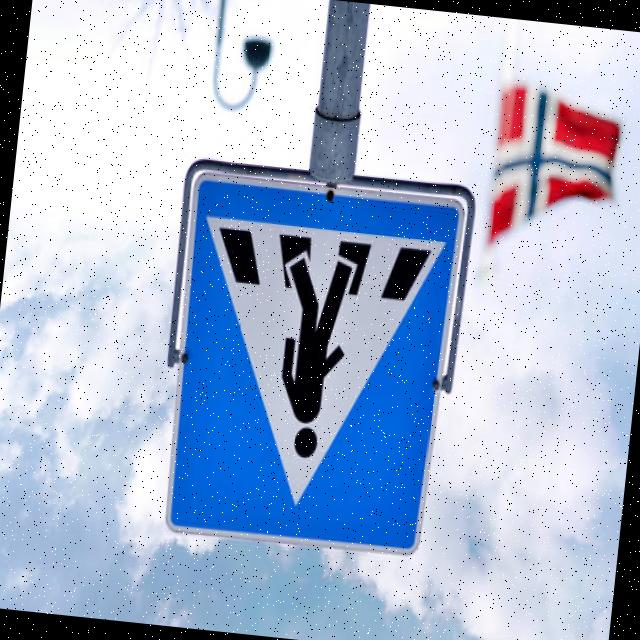crosswalk: (137, 161, 470, 578)
